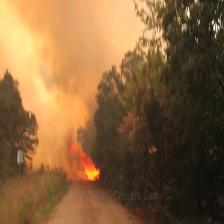fire: (38, 123, 115, 185)
